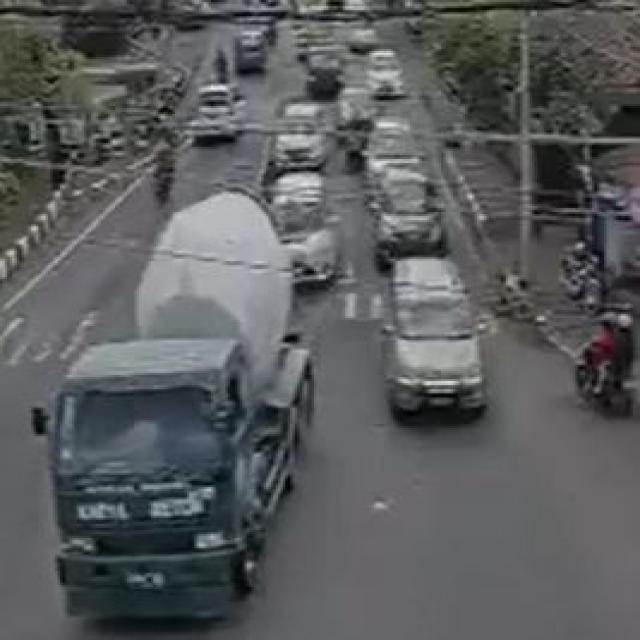car: (358, 251, 513, 435), (272, 166, 368, 304), (372, 170, 457, 265)
truck: (54, 189, 350, 640)
